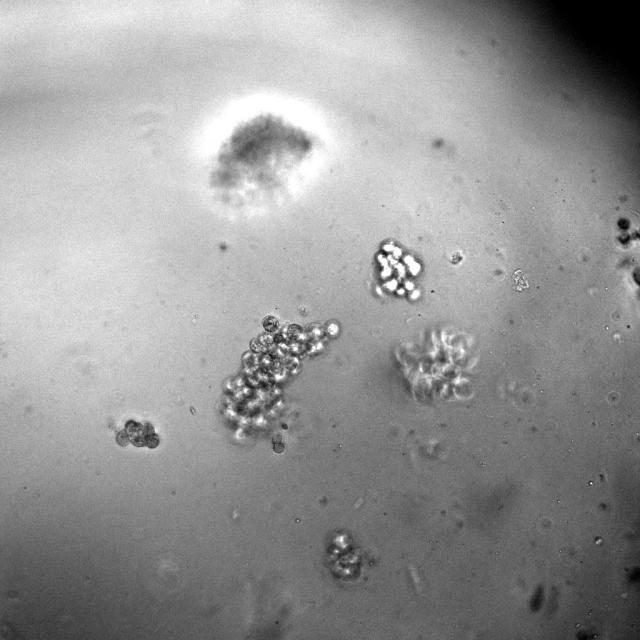organoid: (221, 316, 341, 452), (211, 106, 323, 215), (394, 329, 476, 403), (372, 239, 422, 302), (326, 529, 363, 581), (116, 419, 159, 448), (617, 217, 639, 246), (512, 269, 529, 291), (450, 251, 462, 264), (632, 266, 639, 286)
